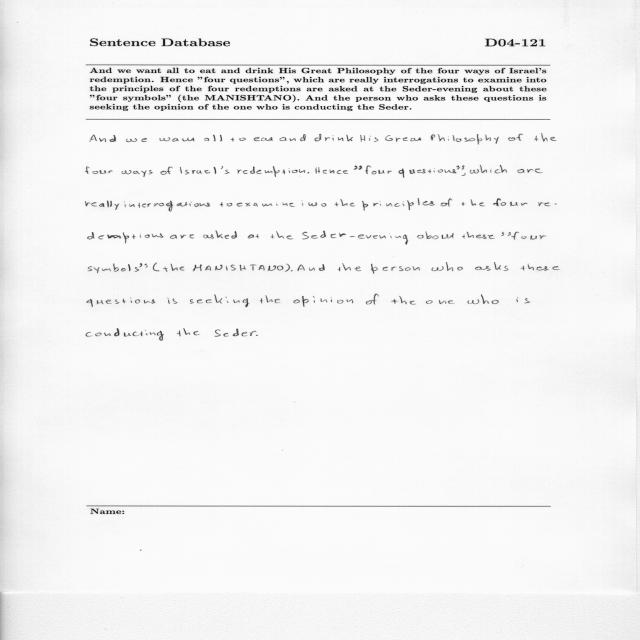word: (302, 231, 408, 245), (86, 328, 164, 341), (362, 198, 435, 211), (124, 201, 210, 212), (88, 232, 164, 244), (190, 295, 249, 308), (431, 134, 499, 145), (237, 166, 305, 177), (293, 296, 353, 307), (193, 265, 284, 272), (87, 298, 155, 307), (399, 168, 457, 178), (88, 263, 142, 273), (371, 264, 420, 274), (180, 166, 230, 174), (215, 329, 257, 337), (470, 165, 507, 174), (314, 134, 353, 142), (508, 232, 547, 240), (468, 295, 499, 305), (86, 201, 120, 210), (475, 262, 509, 271), (417, 232, 454, 240), (237, 202, 295, 207), (493, 199, 528, 207), (520, 264, 560, 271), (203, 231, 237, 239), (431, 263, 463, 271), (386, 135, 422, 142), (365, 166, 392, 175), (315, 167, 348, 174), (462, 232, 495, 239), (391, 296, 416, 305), (122, 170, 153, 177), (86, 166, 113, 174), (90, 135, 116, 143), (535, 133, 557, 142), (271, 231, 293, 240), (297, 264, 325, 271), (338, 264, 362, 272), (279, 134, 306, 141), (260, 295, 280, 304), (177, 329, 199, 337), (163, 264, 184, 272), (462, 200, 485, 207), (302, 201, 327, 207), (366, 294, 379, 305), (160, 138, 195, 142), (335, 200, 355, 207), (360, 135, 379, 142), (517, 169, 543, 174), (170, 234, 194, 239), (426, 300, 455, 304), (204, 135, 222, 141), (508, 134, 523, 141), (160, 167, 173, 175), (516, 297, 530, 304), (441, 199, 452, 207), (126, 138, 147, 142), (254, 137, 273, 141), (538, 202, 557, 206), (231, 138, 246, 142), (220, 202, 232, 207), (168, 298, 178, 304), (153, 263, 159, 271), (462, 165, 466, 176), (248, 234, 259, 238), (285, 264, 290, 272), (354, 166, 363, 170), (456, 166, 460, 170), (502, 232, 505, 236), (145, 264, 148, 268), (256, 334, 258, 336), (308, 172, 310, 173), (291, 270, 292, 271)
